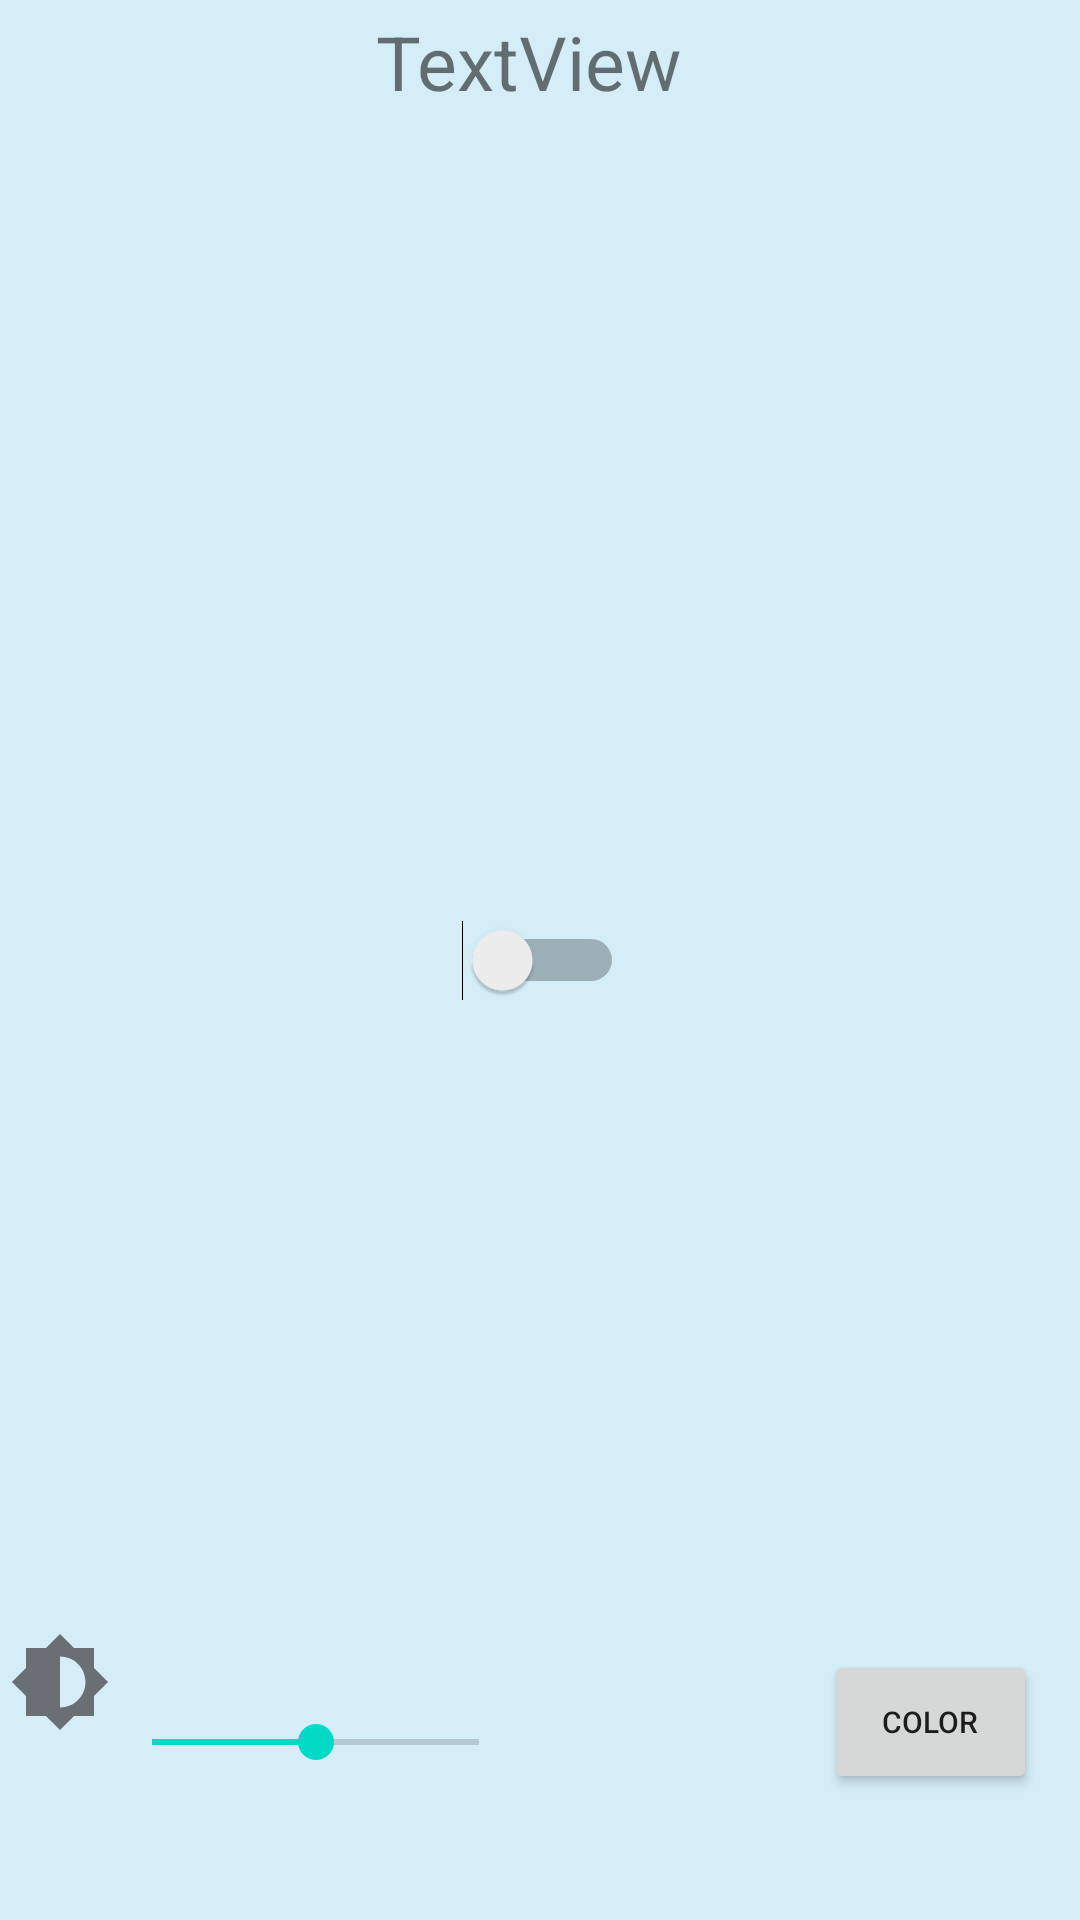

Icons on this 1080w x 1920h Android screen, each with the point to tap as (x=x, y=y):
brightness: (x=60, y=1682)
